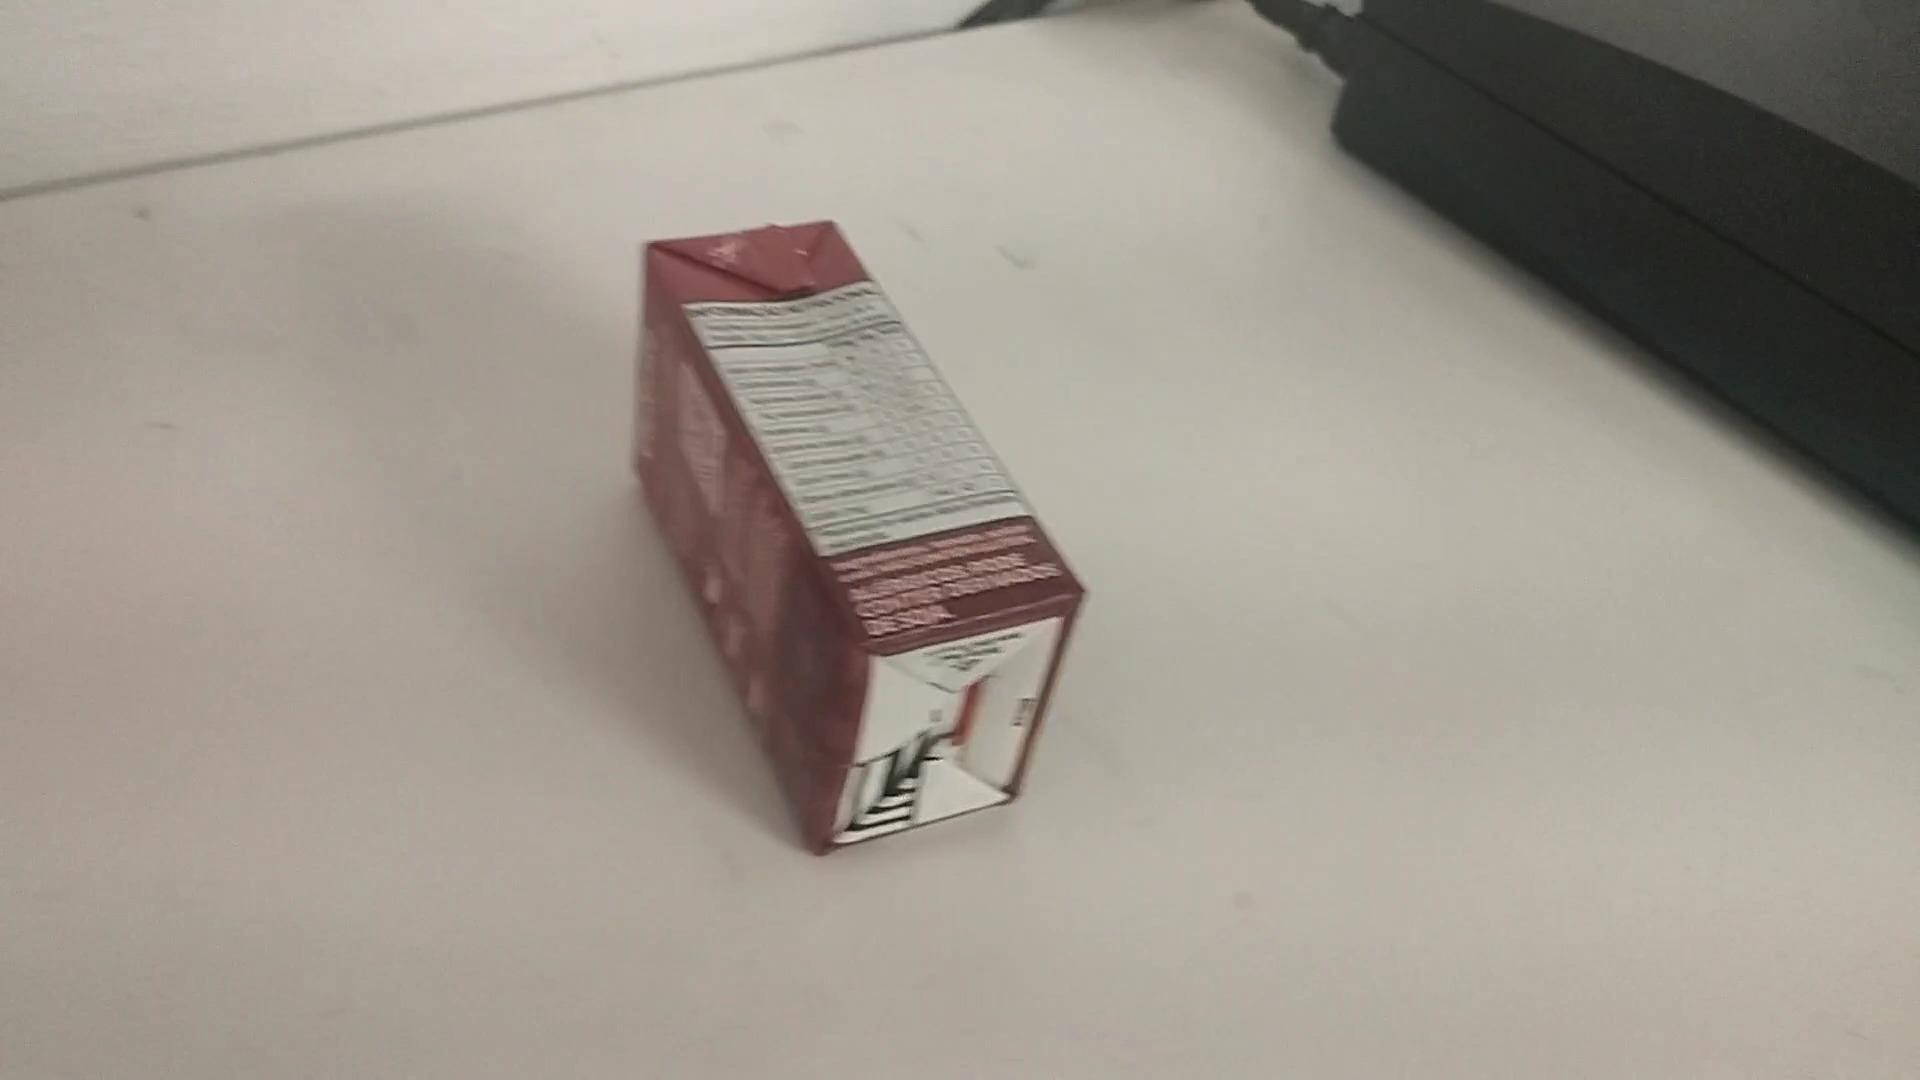tomate: (630, 200, 1102, 855)
